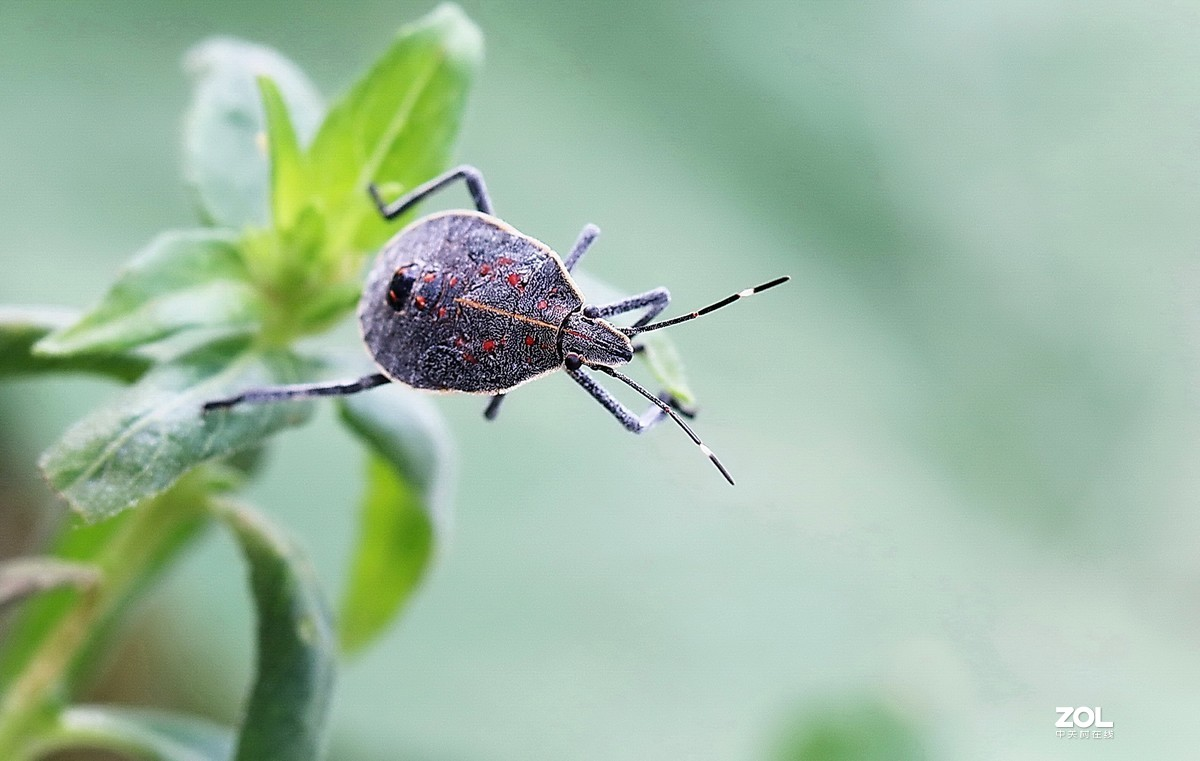chunchong: (341, 195, 778, 451)
